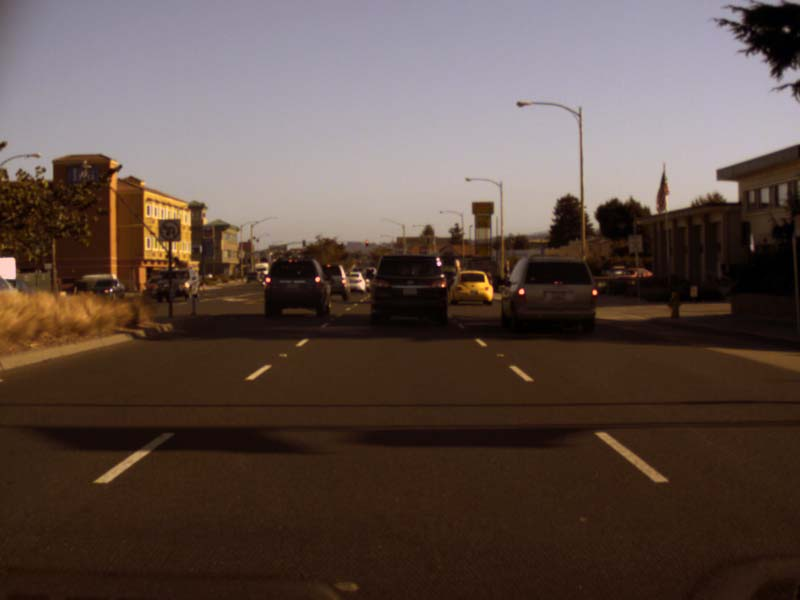Red: (364, 238, 369, 247)
